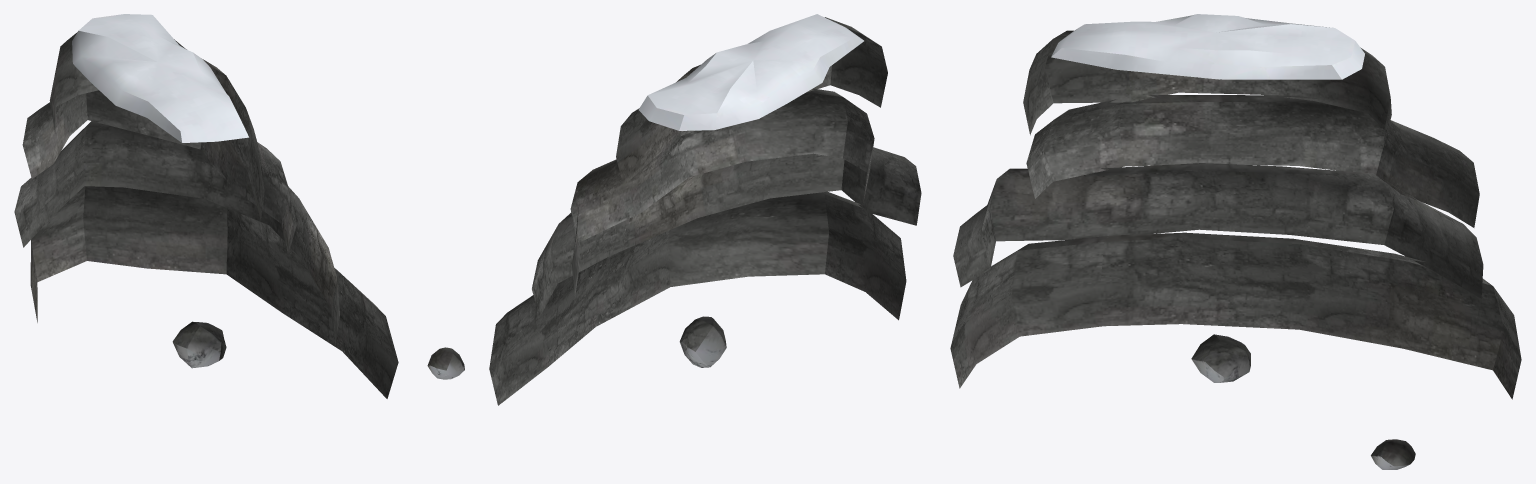
Rendered from rock_wall_snow.glb.
3 renders of one model, left to right at view 1: azimuth 30°, elevation 25°; view 2: azimuth 150°, elevation 25°; view 3: azimuth 270°, elevation 25°, orthographic. The views are drawn at different scales.
Visible parts, largest first — view 1: root_mesh; view 2: root_mesh; view 3: root_mesh.
Part boxes in pixels (x1,y1,x2,y2): root_mesh: (14, 14, 398, 398); root_mesh: (427, 14, 921, 405); root_mesh: (950, 14, 1521, 469).
Size of the model in its own units: 0.9849 by 0.9364 by 1.46.
1 material, 1 textured.
